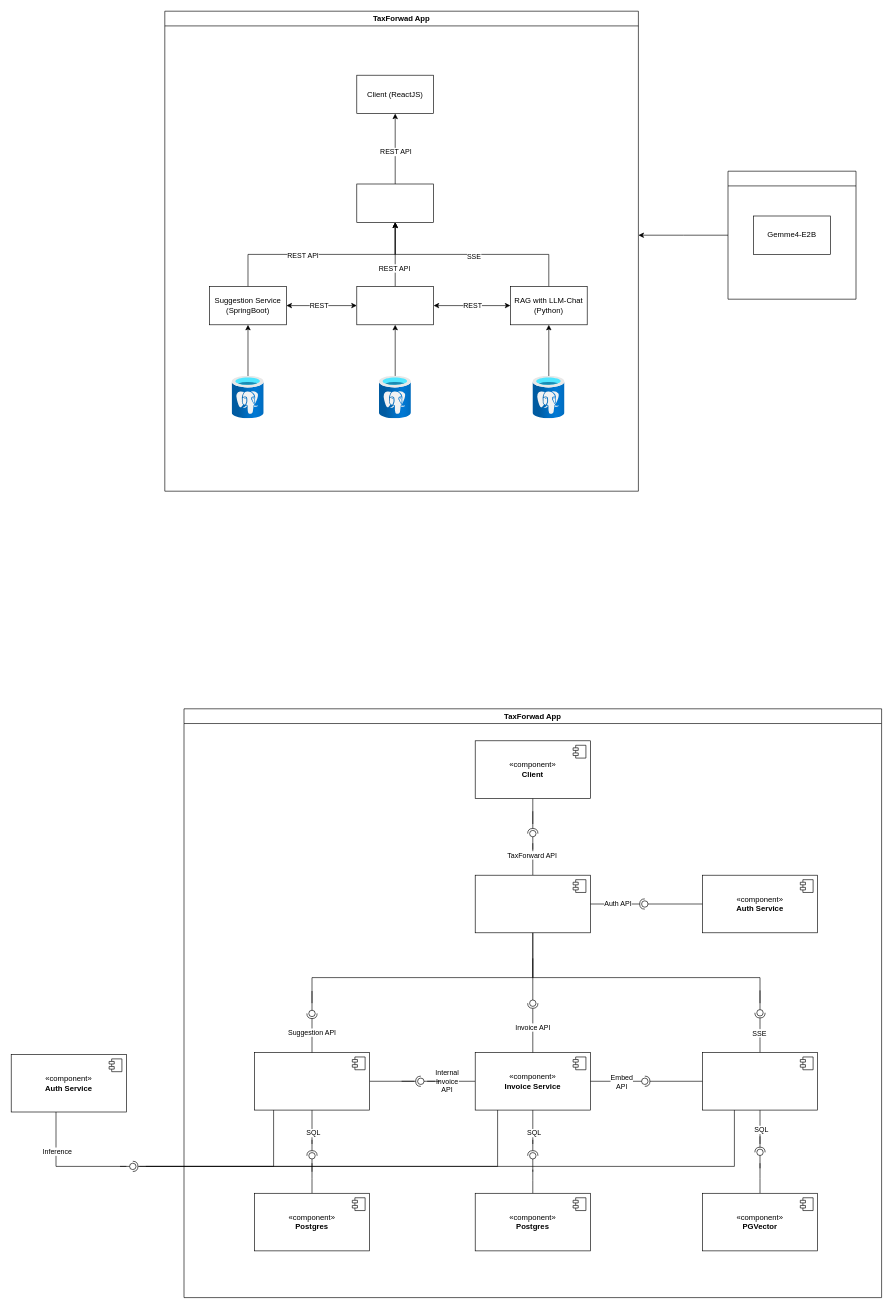
This 893x1309 diagram has some shape labels left out. The centre of each missing label's shape, as x and y in pixels:
"API Gateway (Traefik, FastAPI)" goes at pixel 395 202.
"Invoice Service (SpringBoot)" goes at pixel 395 305.
"PGVector" goes at pixel 548 397.
"Self-Hosted LLM Service" goes at pixel 791 235.
"«component» RAG-ChatAgent" goes at pixel 760 1081.
"«component» Suggestion Service" goes at pixel 312 1081.
"«component» Traefik" goes at pixel 532 904.
